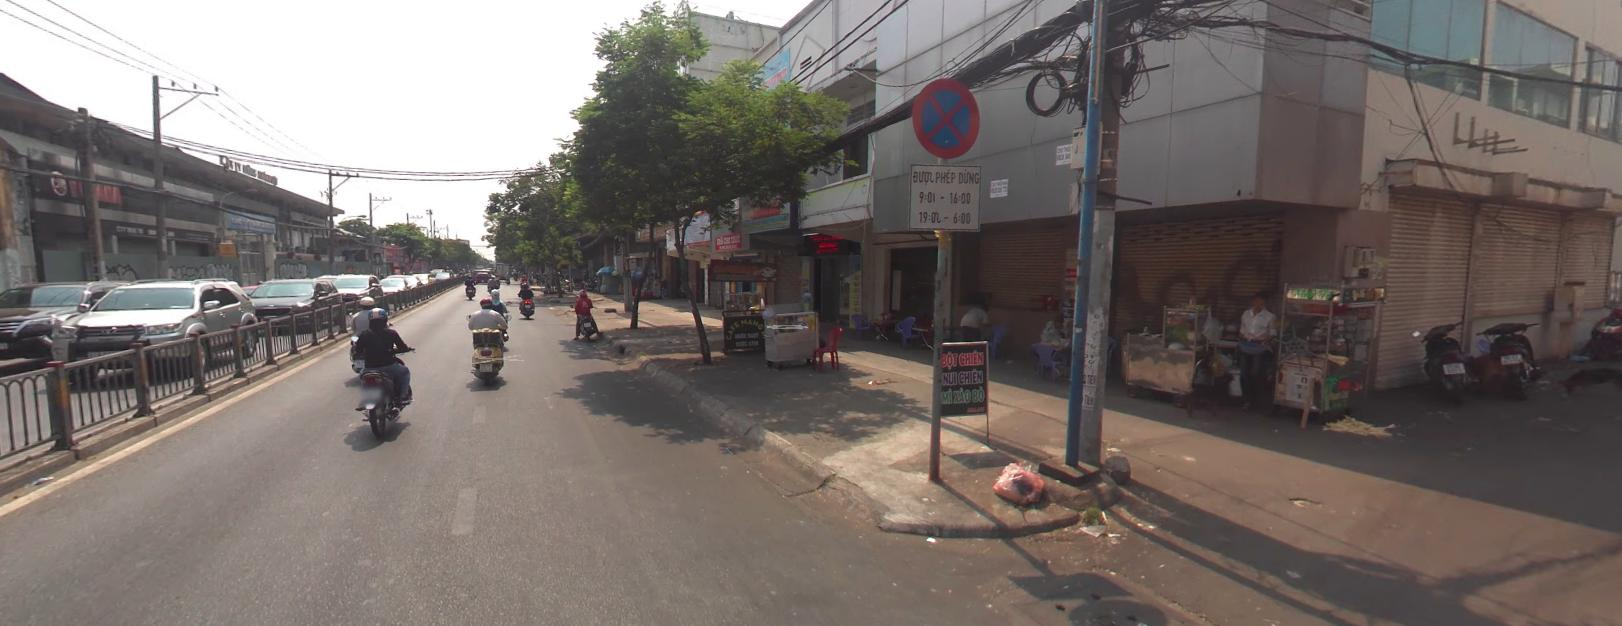Cam dung va do: (910, 74, 982, 156)
